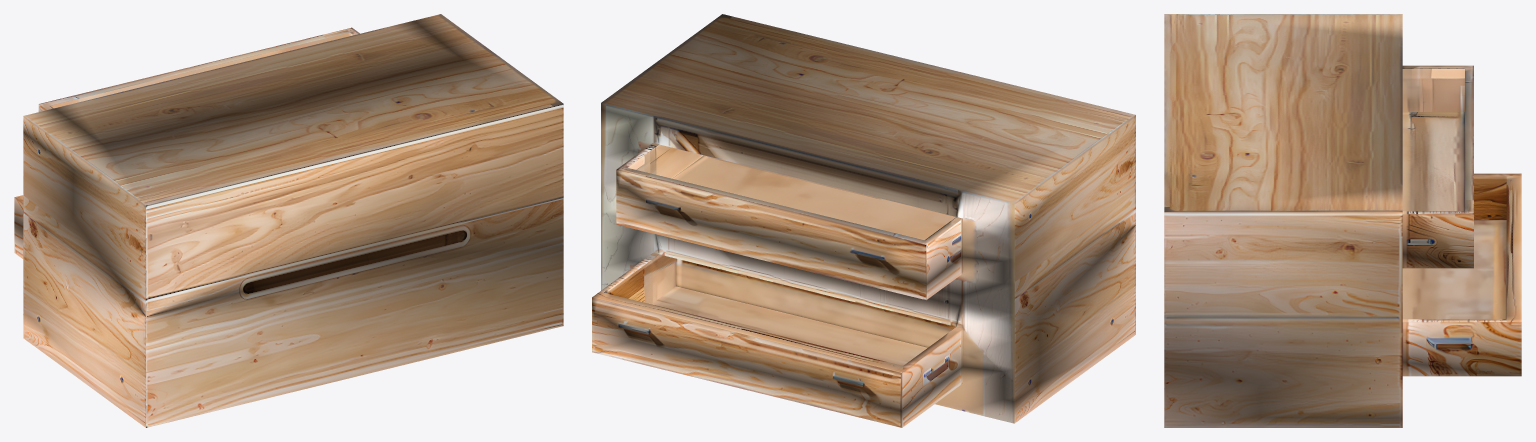
The model's file is drawer.glb.
3 renders of one model, left to right at view 1: azimuth 30°, elevation 25°; view 2: azimuth 150°, elevation 25°; view 3: azimuth 270°, elevation 25°, orthographic. The views are drawn at different scales.
Size of the model in its own units: 19.67 by 10 by 15.
Materials: 1 (1 with a texture image).
